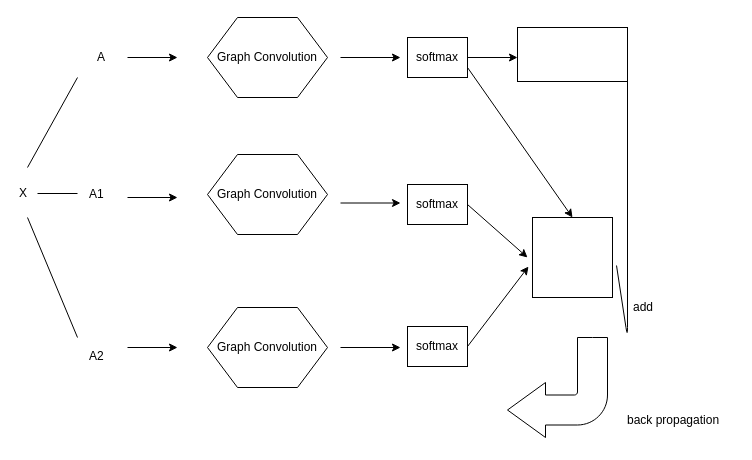
Some shapes in this 752 by 460 pixel diagram are drawn without their labels. The shapes that lost their labels are listed below. From the top down, each one's centre as x and y in pixels, then its label:
[572,54]: supervised loss
[572,257]: unsupervised loss
